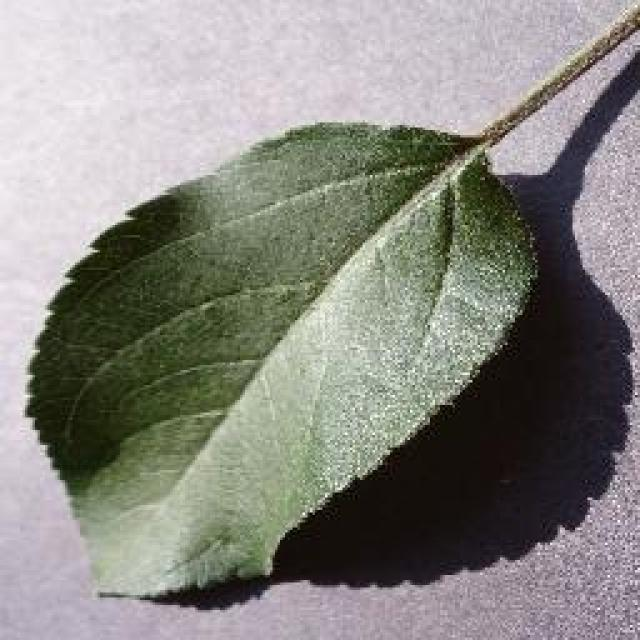apple healthy: (20, 0, 637, 602)
